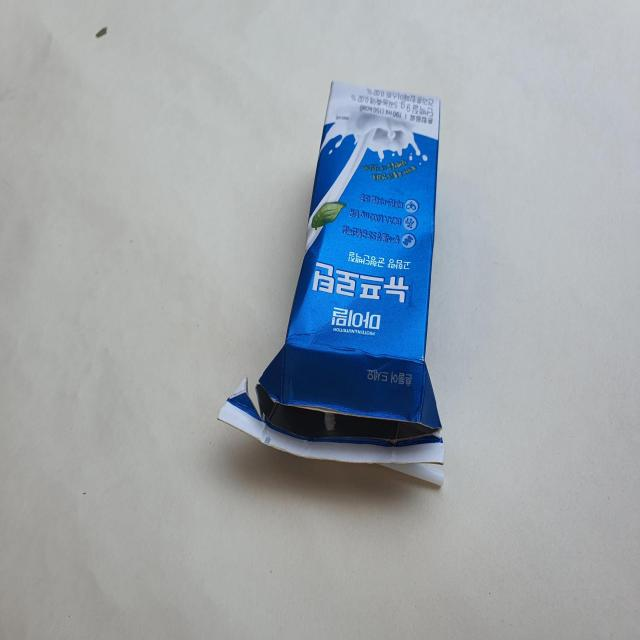paperpack: (218, 81, 444, 486)
